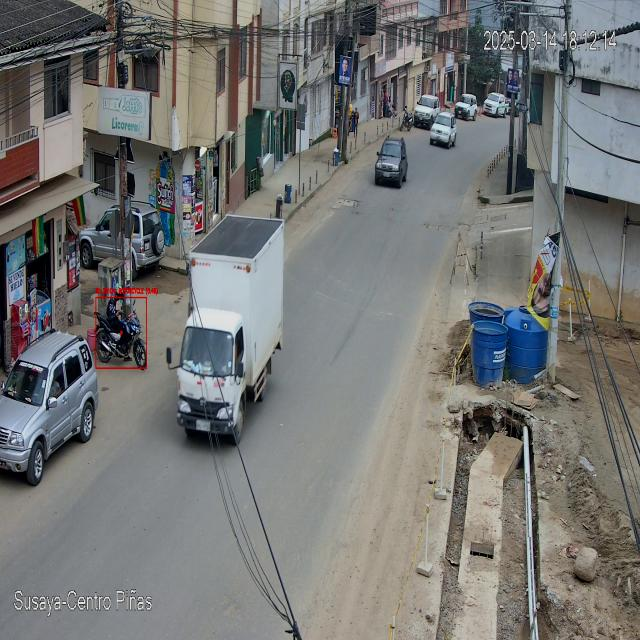TRUCK: (176, 217, 284, 439)
